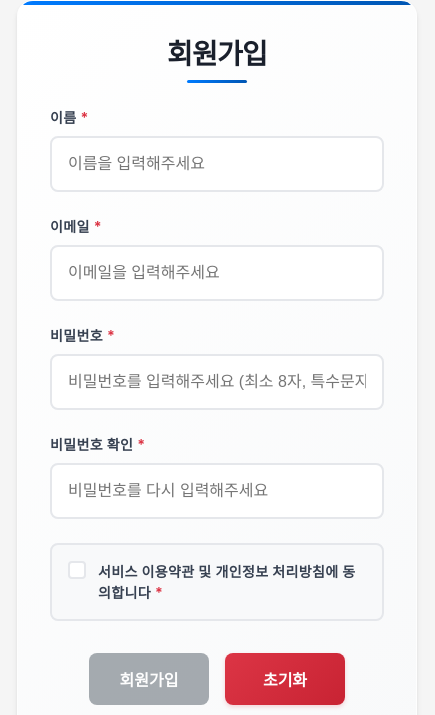
Performance Optimization Tests › Button State Management › should update submit button state efficiently
Expected: the button "회원가입" is disabled, x1=89 y1=653 x2=209 y2=705
// Fill required fields
Type "John Doe" into the field labelled "이름*" at (217, 164), box x1=50 y1=136 x2=384 y2=192
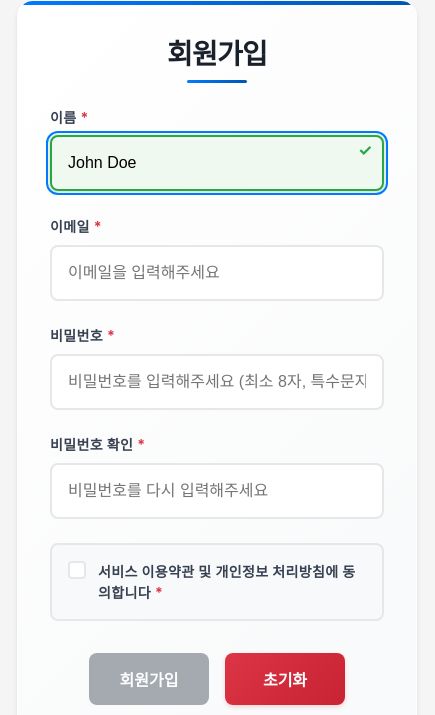
Type "john@example.com" into the field labelled "이메일*" at (217, 273), box x1=50 y1=245 x2=384 y2=301
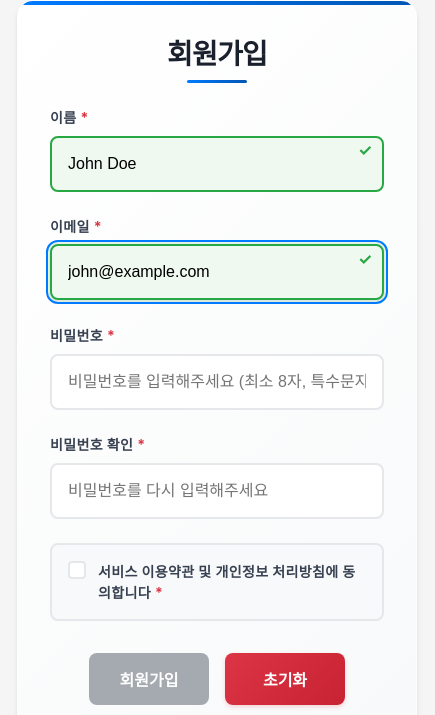
Type "password123!" into the password field labelled "비밀번호*" at (217, 382), box x1=50 y1=354 x2=384 y2=410
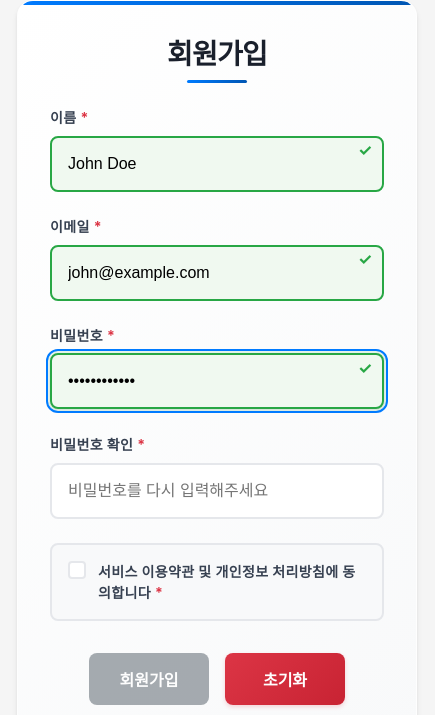
Type "password123!" into the password field labelled "비밀번호 확인*" at (217, 491), box x1=50 y1=463 x2=384 y2=519
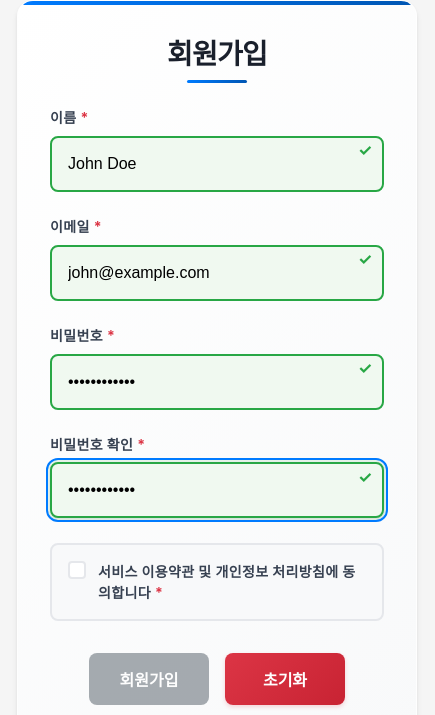
Click the checkbox labelled "서비스 이용약관 및 개인정보 처리방침에 동의합니다*" at (77, 570), box x1=68 y1=561 x2=86 y2=579
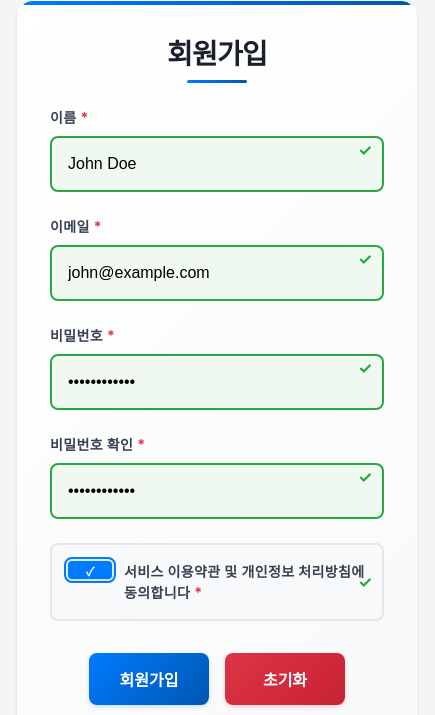
Expected: the button "회원가입" is enabled, x1=89 y1=653 x2=209 y2=705
